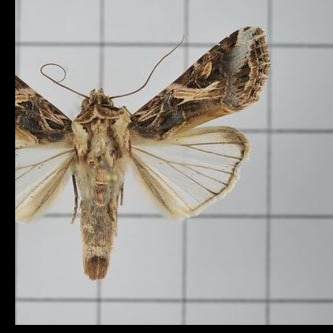Spodoptera litura: (16, 23, 271, 279)
